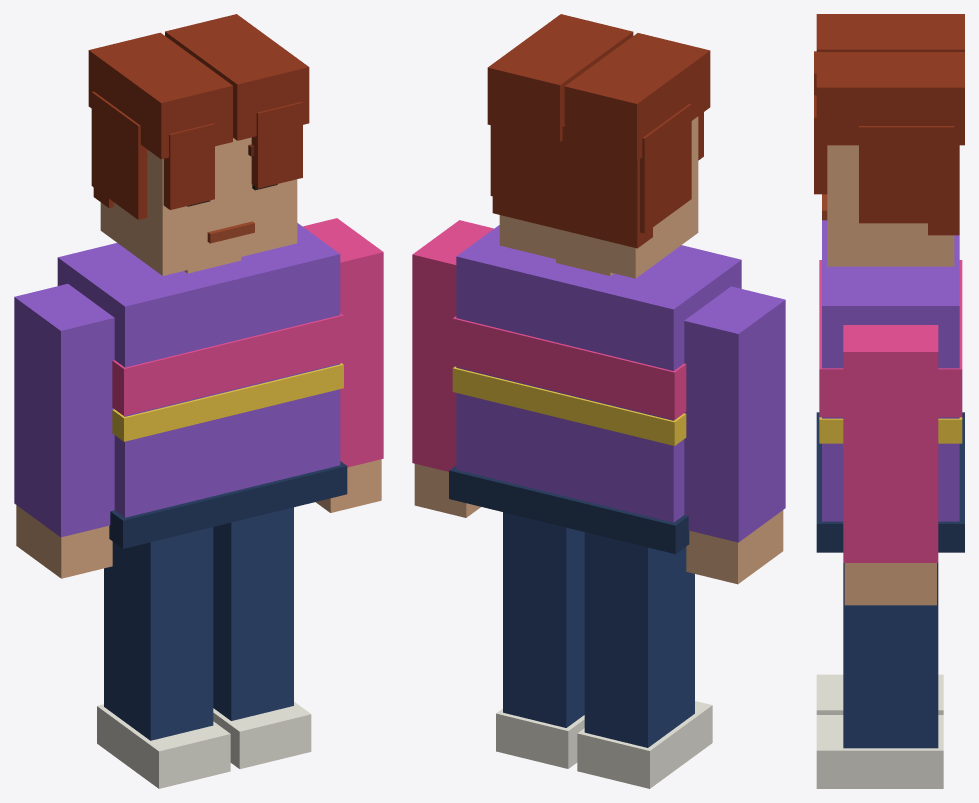
File: elem2_student_4.glb
The picture shows the model from 3 angles, left to right: view 1: azimuth 30°, elevation 25°; view 2: azimuth 150°, elevation 25°; view 3: azimuth 270°, elevation 25°; orthographic projection. The views are drawn at different scales.
Visible parts, largest first — view 1: Box9, Box7, Box5, Box1, Box14, Box23, Box10, Box3, Box20, Box12, Box6, Box11 (+6 smaller); view 2: Box9, Box7, Box5, Box1, Box26, Box23, Box10, Box3, Box20, Box12, Box14, Box11 (+5 smaller); view 3: Box3, Box9, Box1, Box20, Box22, Box14, Box2, Box23, Box4, Box10, Box12, Box6 (+3 smaller).
Part boxes in pixels (x1,y1,x2,y2): Box9: (57,223,340,517); Box7: (14,284,114,537); Box5: (104,527,213,740); Box1: (213,507,293,720); Box14: (100,137,297,275); Box23: (88,32,232,159); Box10: (112,313,343,415); Box3: (303,218,383,467); Box20: (165,14,309,140); Box12: (109,461,347,548); Box6: (97,704,230,788); Box11: (112,363,343,441); Box9: (456,225,741,522); Box7: (684,286,785,542); Box5: (584,532,694,747); Box1: (503,512,584,727); Box26: (492,125,652,248); Box23: (564,33,710,160); Box10: (452,316,686,419); Box3: (412,220,493,471); Box20: (487,14,633,141); Box12: (449,465,689,554); Box14: (499,116,698,278); Box11: (452,366,686,445); Box3: (843,325,938,562); Box9: (822,220,959,521); Box1: (843,563,938,748); Box20: (816,52,964,145); Box22: (859,126,954,223); Box14: (827,145,954,266); Box2: (816,715,943,788); Box23: (816,14,964,51); Box4: (844,563,936,605); Box10: (819,260,962,417); Box12: (816,412,964,552); Box6: (816,674,943,714).
Bounding box in the file's own units: 0.756 × 1.53 × 0.2993.
